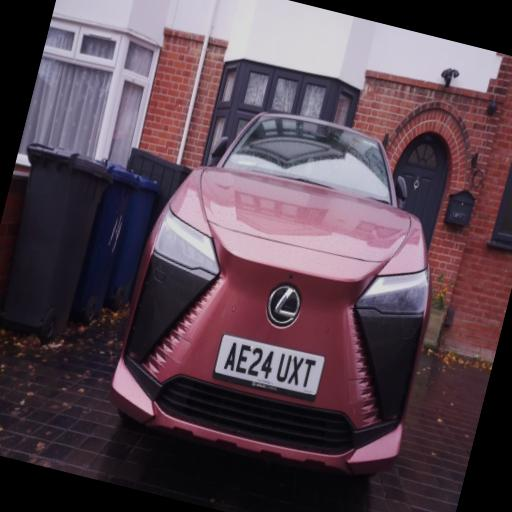numberplates: (213, 335, 324, 400)
